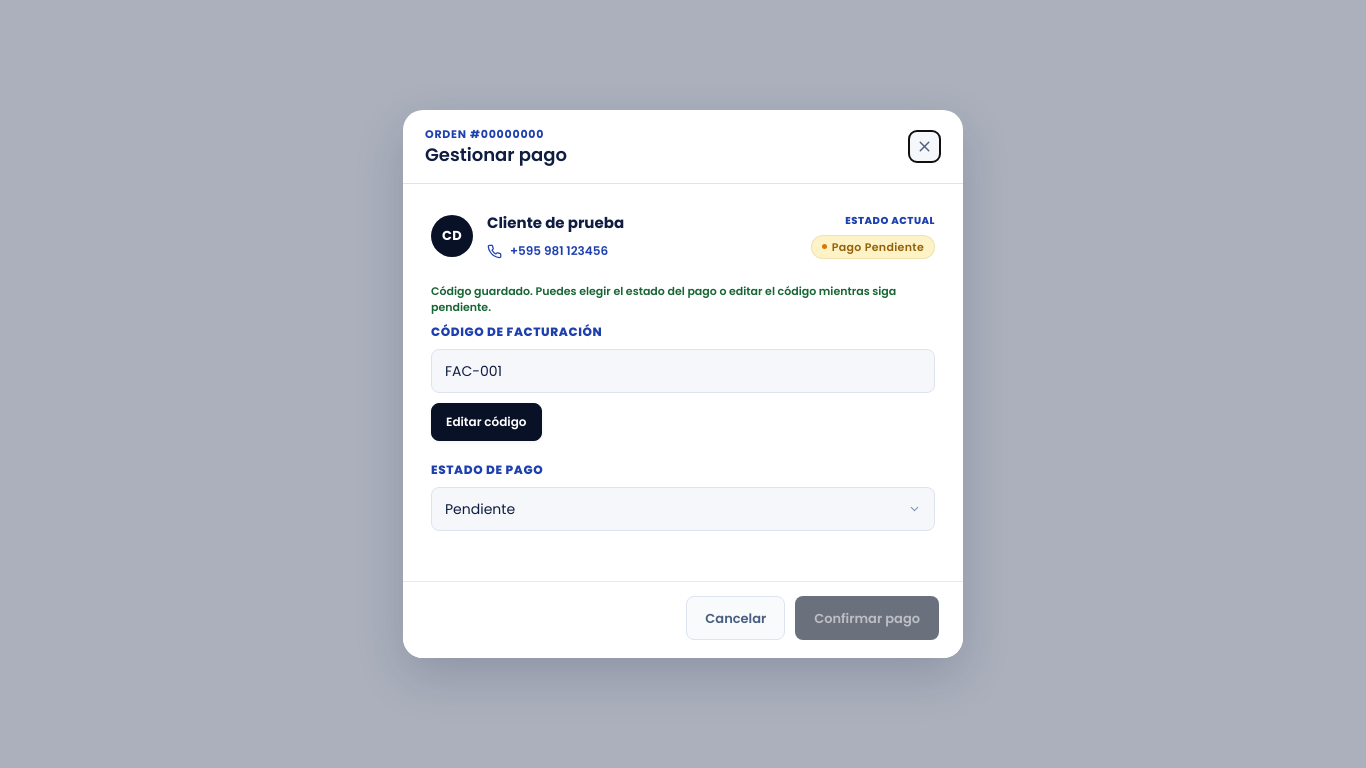
Scenario: PaymentFormModal layout › edits a saved pending invoice code only after choosing Editar código, then returns to read-only
Expected: the field labelled "Código de facturación" holds "FAC-001", [431, 350, 935, 394]
Click the button "Editar código".
click(486, 422)  # box [431, 404, 542, 442]
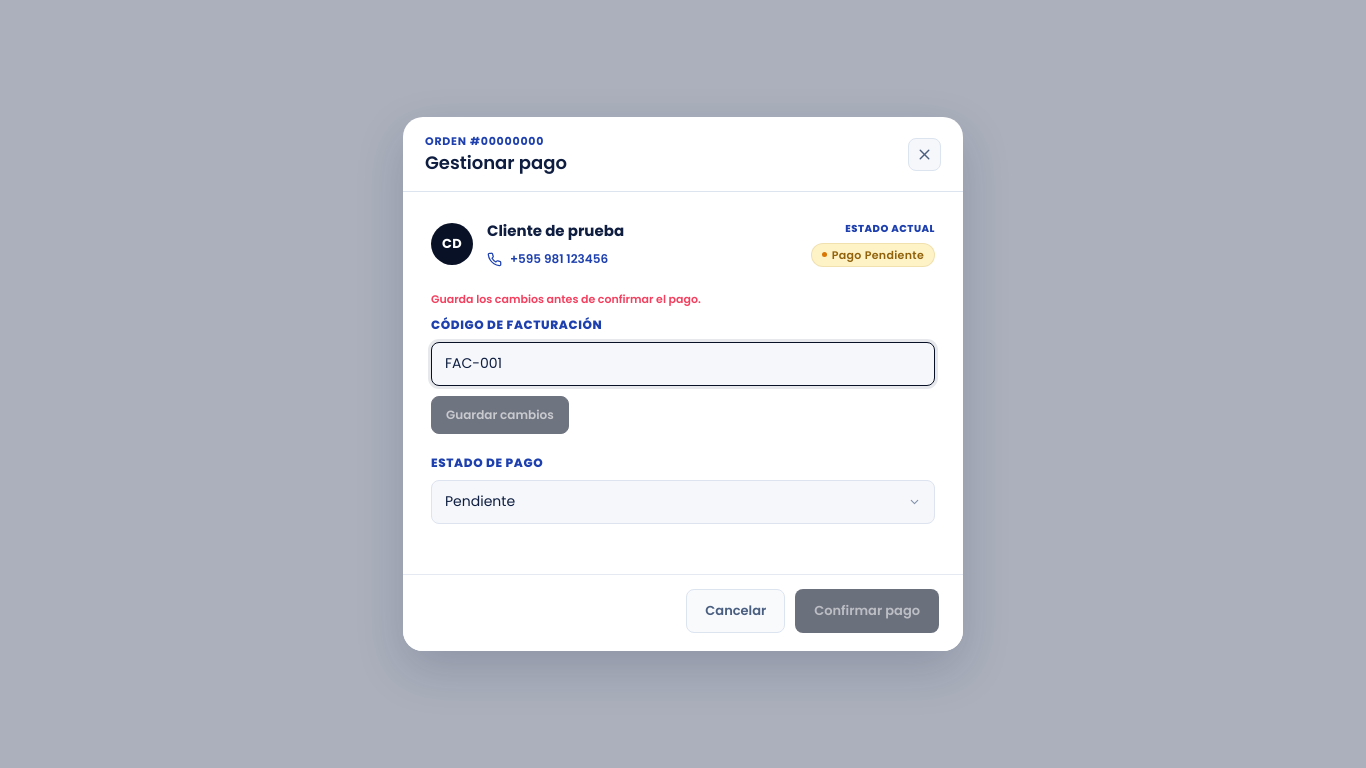
Now the button "Guardar cambios" is shown, box [431, 396, 569, 434]
Replace the text in the field labelled "Código de facturación" with "FAC-002" at (683, 364), box [431, 342, 935, 386]
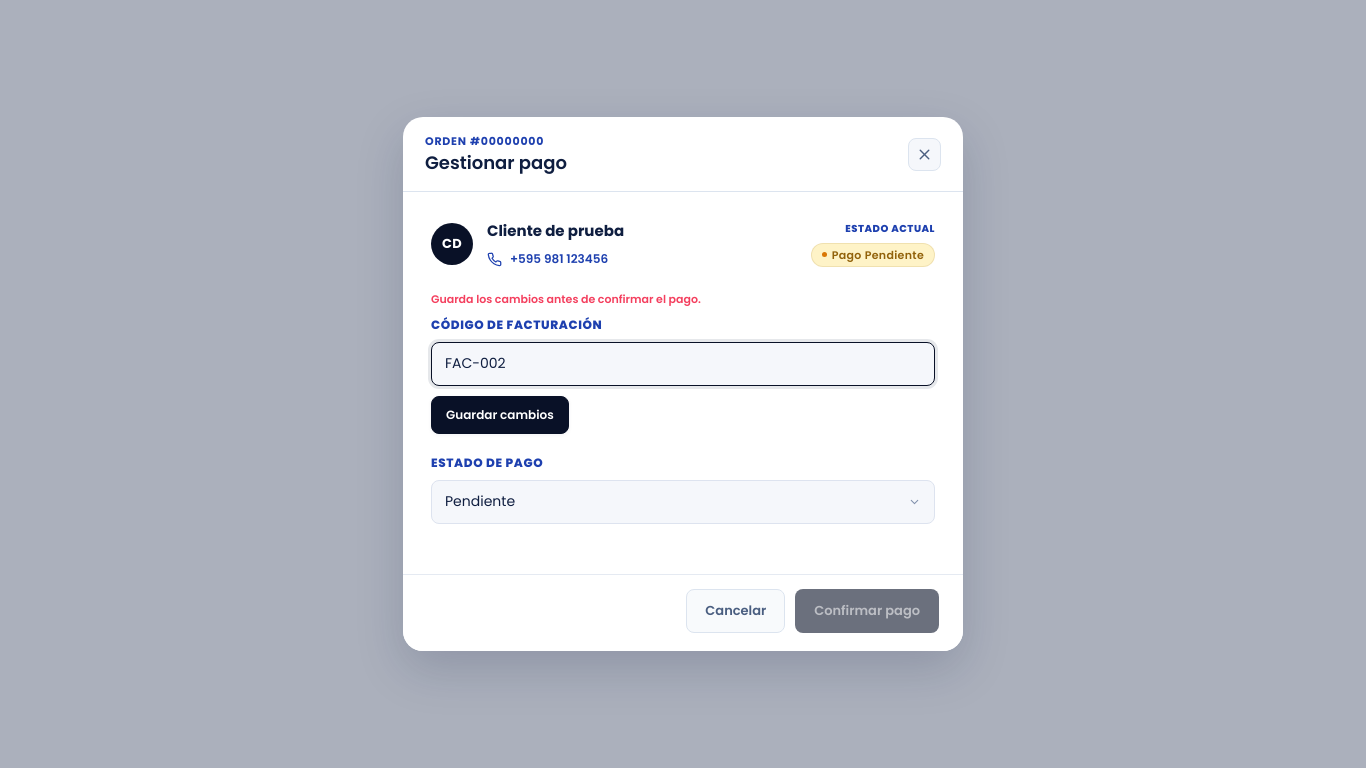
Expected: the button "Confirmar pago" is disabled, [795, 588, 939, 632]
Click the button "Guardar cambios".
click(500, 414)  # box [431, 396, 569, 434]
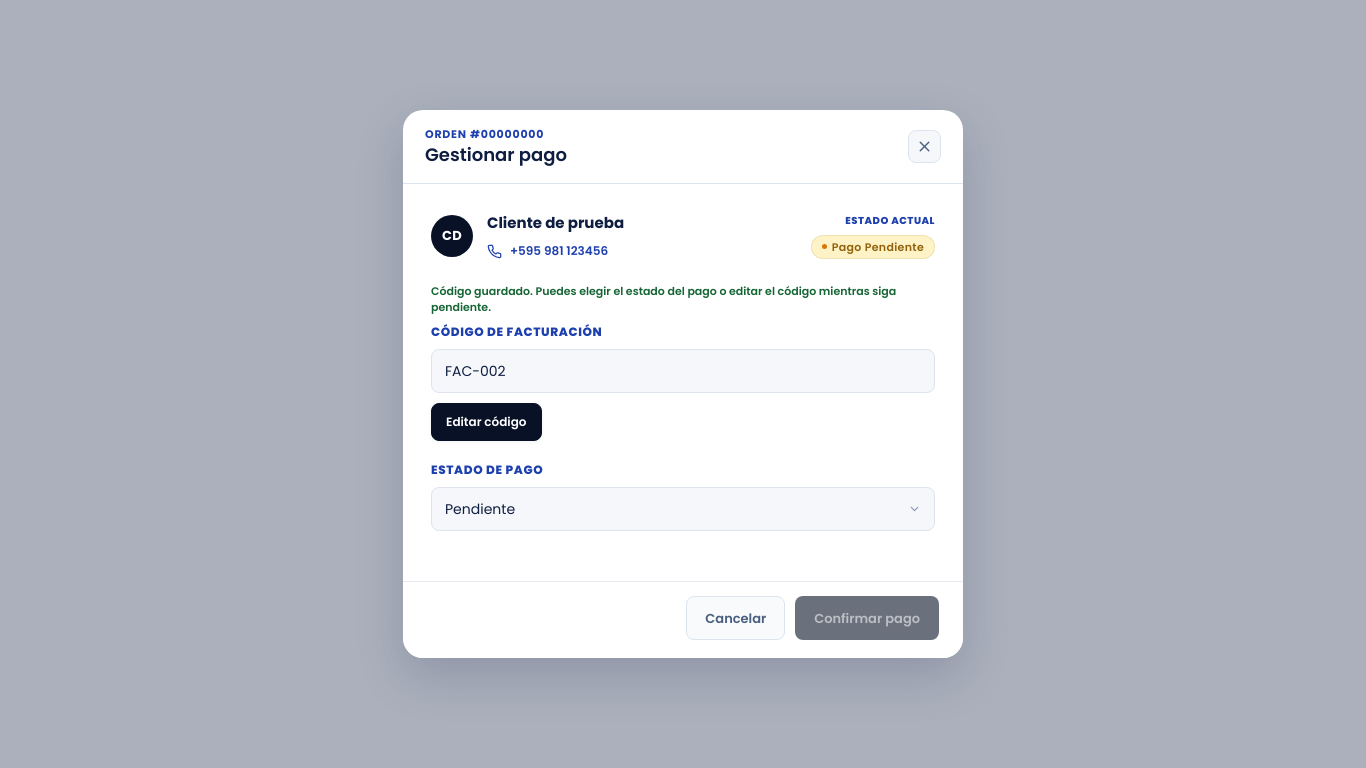
Now the button "Editar código" is shown, box [431, 404, 542, 442]
